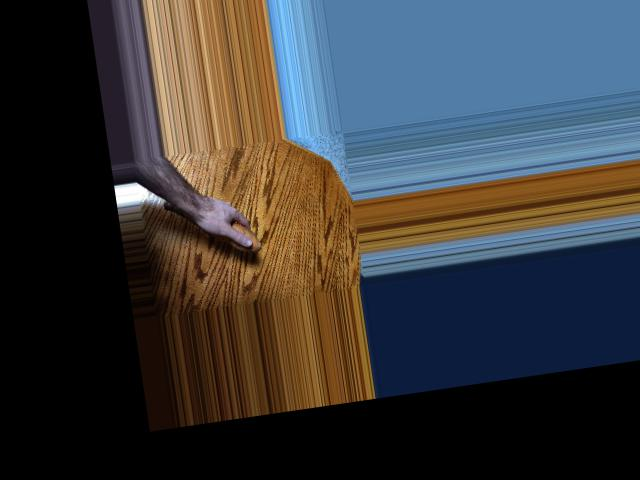sweet_potato: (164, 189, 263, 264)
